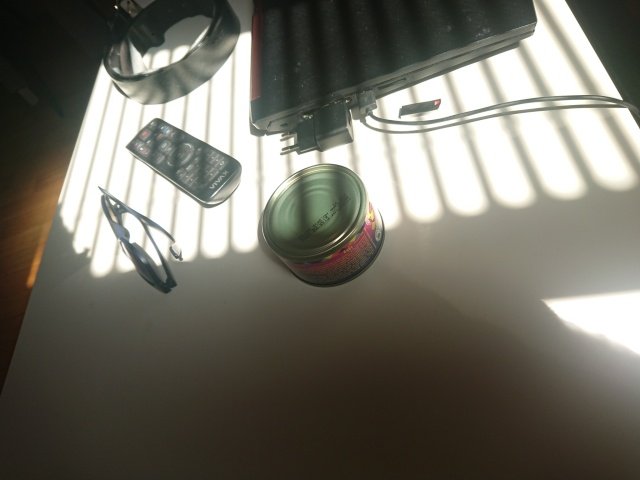Giana Tuna Salad Mexico 185g: (259, 160, 388, 291)
